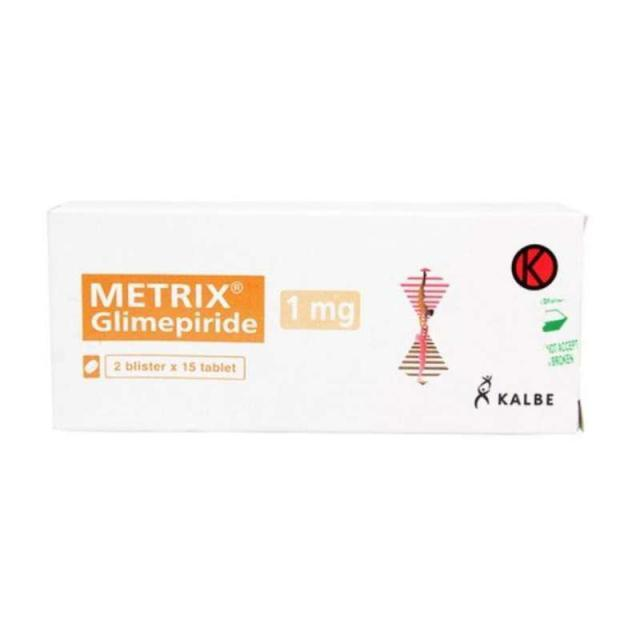drug-name: (86, 276, 258, 313)
